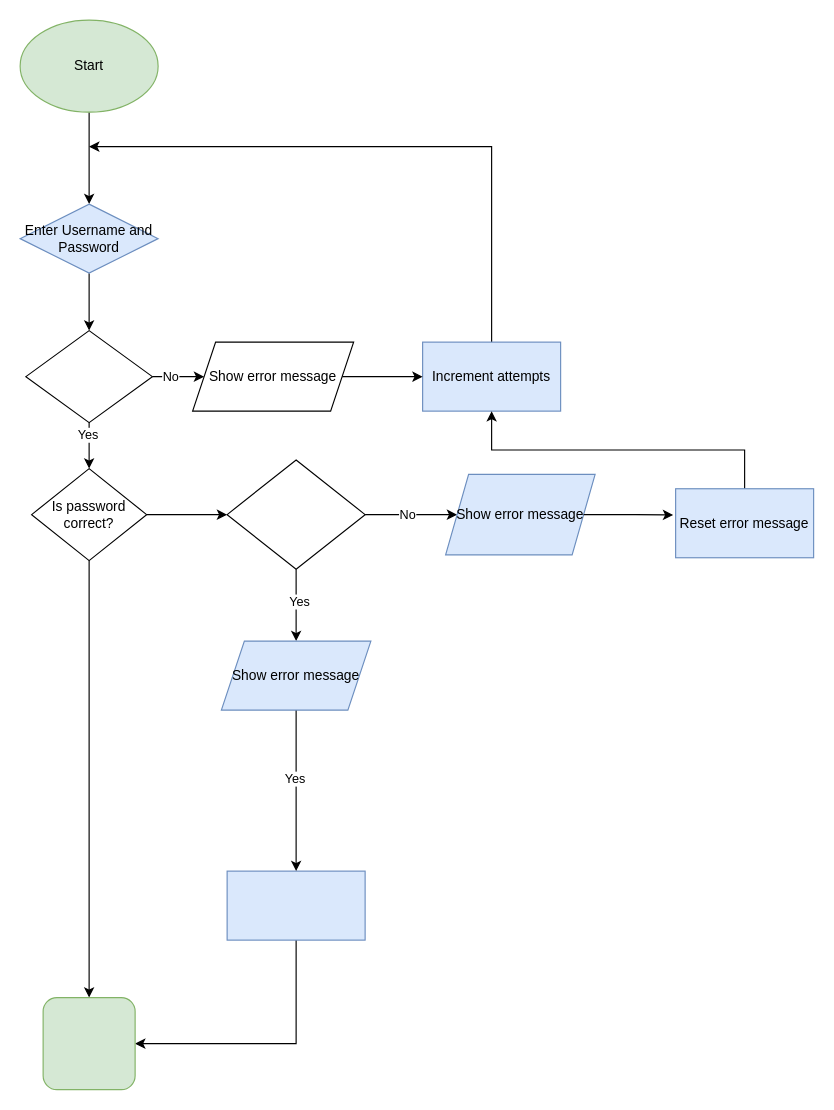
The diagram is 834 pixels wide and 1110 high, and some of its shapes have lost their labels. Each missing label, with the centre of its shape:
"End" belongs at point (88, 1043).
"Has3 attempts been exceeded?" belongs at point (295, 514).
"Is username valid?" belongs at point (88, 376).
"Lock Account" belongs at point (295, 905).
